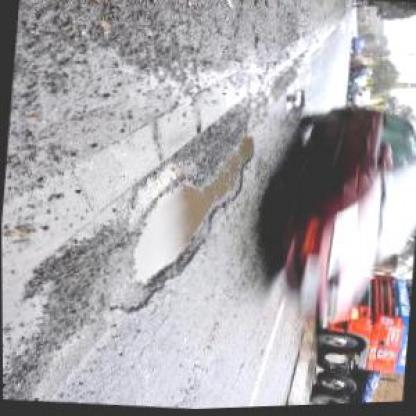pothole: (126, 123, 261, 302), (284, 89, 308, 116)
